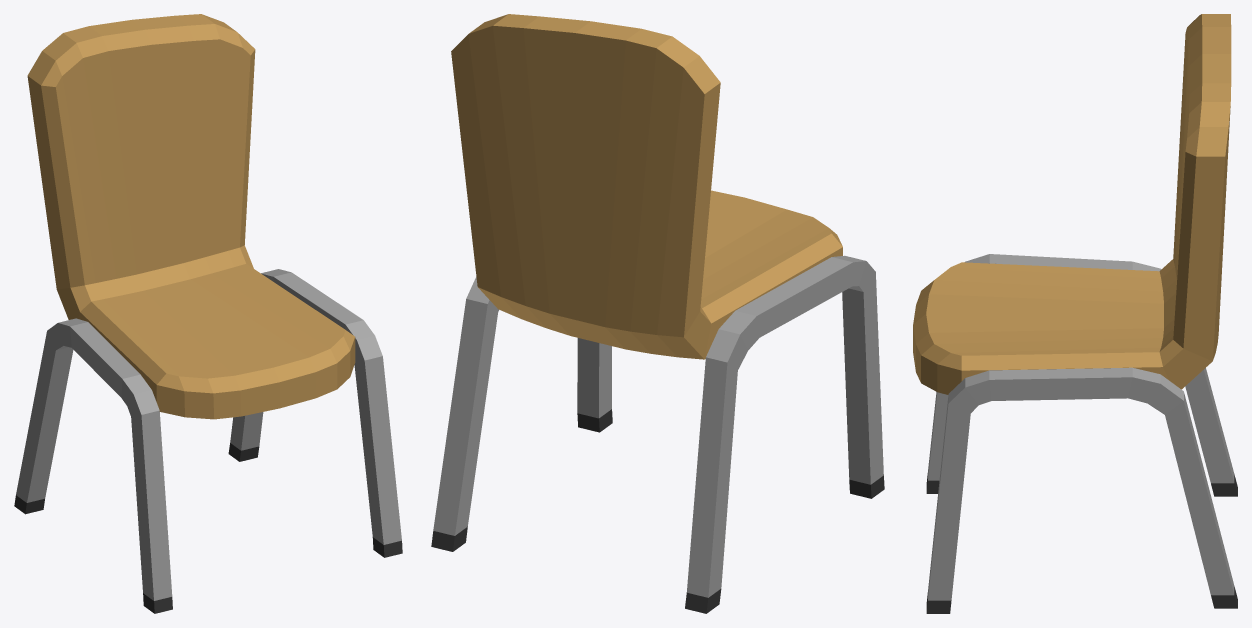
Rendered from Sm_Chair01.fbx.
3 renders of one model, left to right at view 1: azimuth 30°, elevation 25°; view 2: azimuth 150°, elevation 25°; view 3: azimuth 270°, elevation 25°, orthographic. The views are drawn at different scales.
Visible parts, largest first — view 1: SM_Chair01; view 2: SM_Chair01; view 3: SM_Chair01.
Part boxes in pixels (bbox=[...]): SM_Chair01: bbox=[14, 14, 402, 613]; SM_Chair01: bbox=[431, 14, 884, 613]; SM_Chair01: bbox=[913, 14, 1237, 613].
Bounding box in the file's own units: 52.55 × 93.03 × 55.05.
